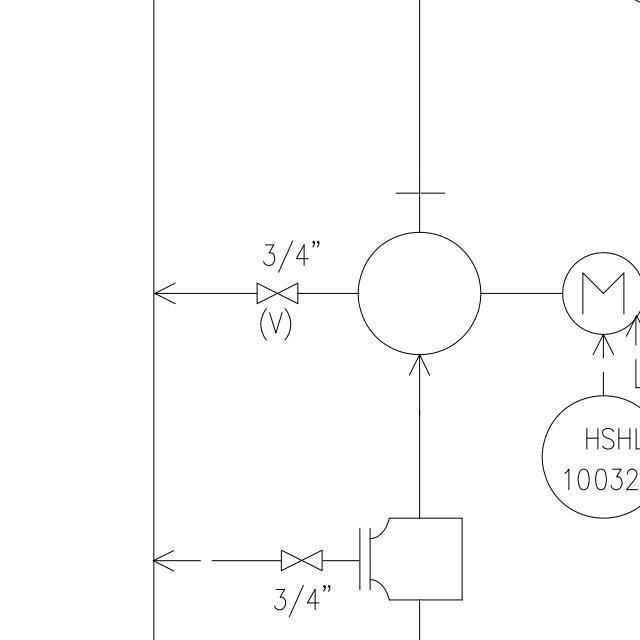GV: (254, 280, 302, 306), (278, 548, 326, 574)
M: (559, 247, 640, 334)
